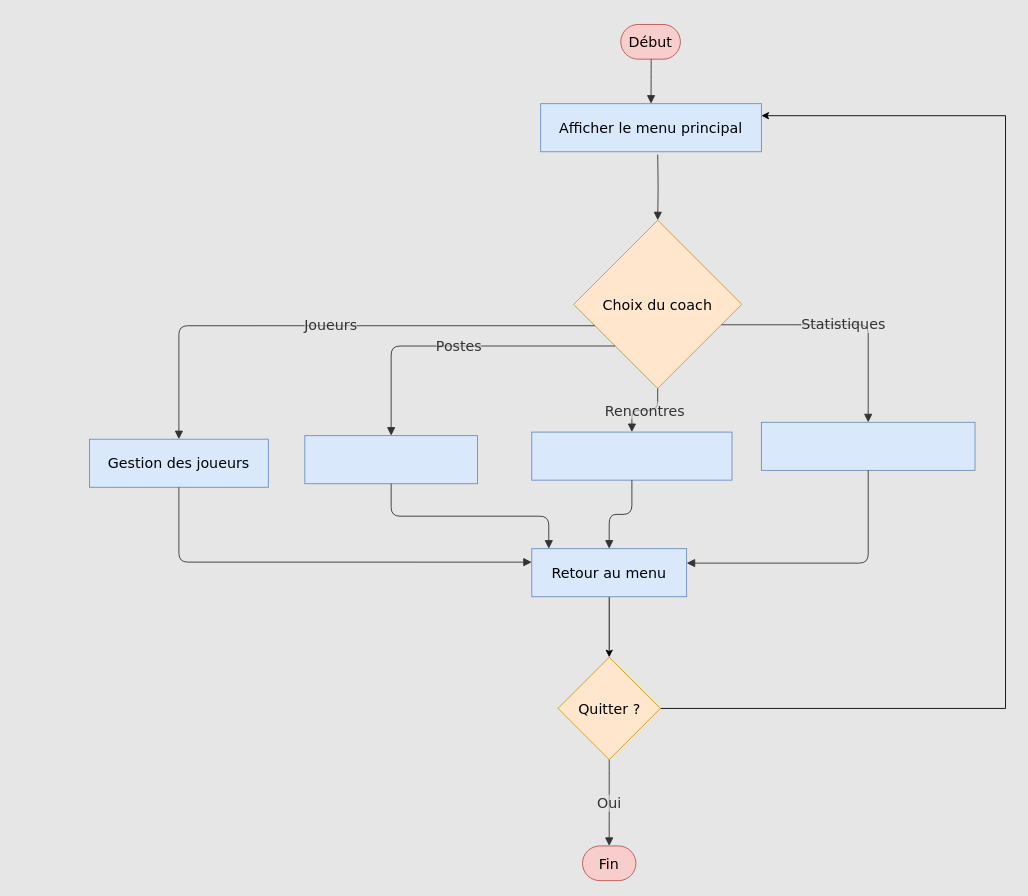
This 1028x896 diagram has some shape labels left out. Here are the shapes that lost their labels. From the top down, the centre of each, then its label:
At point (390, 459): "Gestion des postes".
At point (631, 455): "Gestion des rencontres".
At point (868, 445): "Consulter les statistiques".
